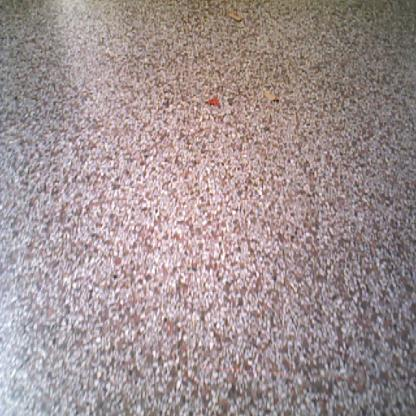dirty: (203, 94, 221, 108), (263, 89, 280, 103), (227, 11, 242, 22)
